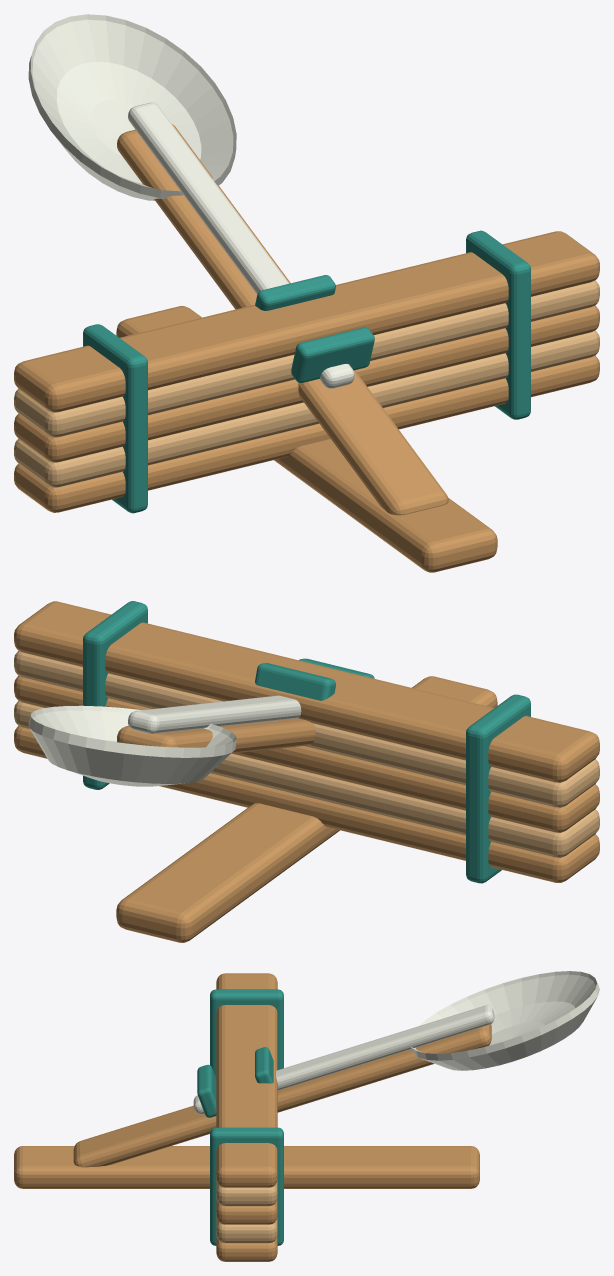
The model's file is NEW_RECOVERY_129_LOD0.glb.
The picture shows the model from 3 angles, top to bottom: view 1: azimuth 30°, elevation 25°; view 2: azimuth 150°, elevation 25°; view 3: azimuth 270°, elevation 25°; orthographic projection. The views are drawn at different scales.
Visible parts, largest first — view 1: Static craft display; view 2: Static craft display; view 3: Static craft display.
Boxes of the visible parts, x1=… form: Static craft display: x1=14, y1=14, x2=599, y2=572; Static craft display: x1=14, y1=601, x2=599, y2=942; Static craft display: x1=14, y1=971, x2=599, y2=1261.
Bounding box in the file's own units: 3.7 × 1.69 × 4.59.
